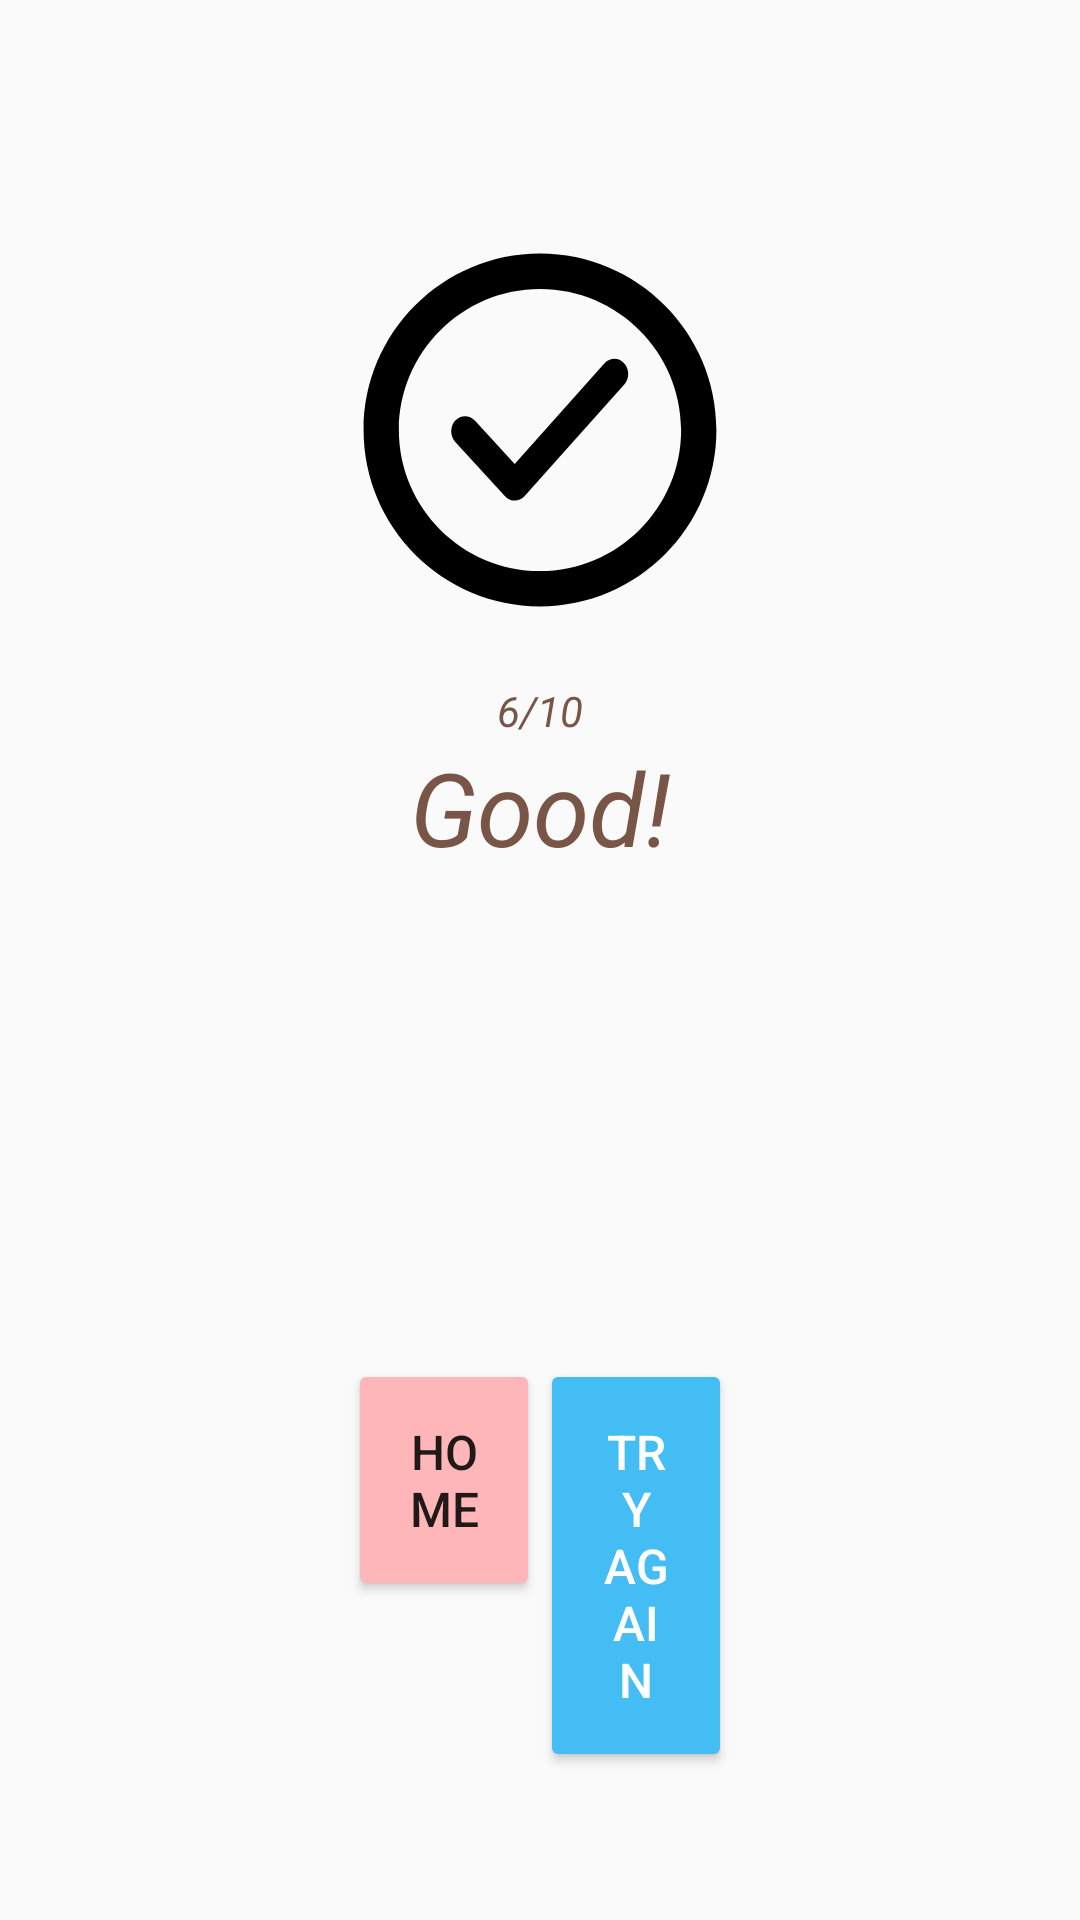

Icons on this 1080*1920 Android screen, each with its box as (x1, y1, x2, y2):
Pass/Fail: (363, 253, 717, 607)
